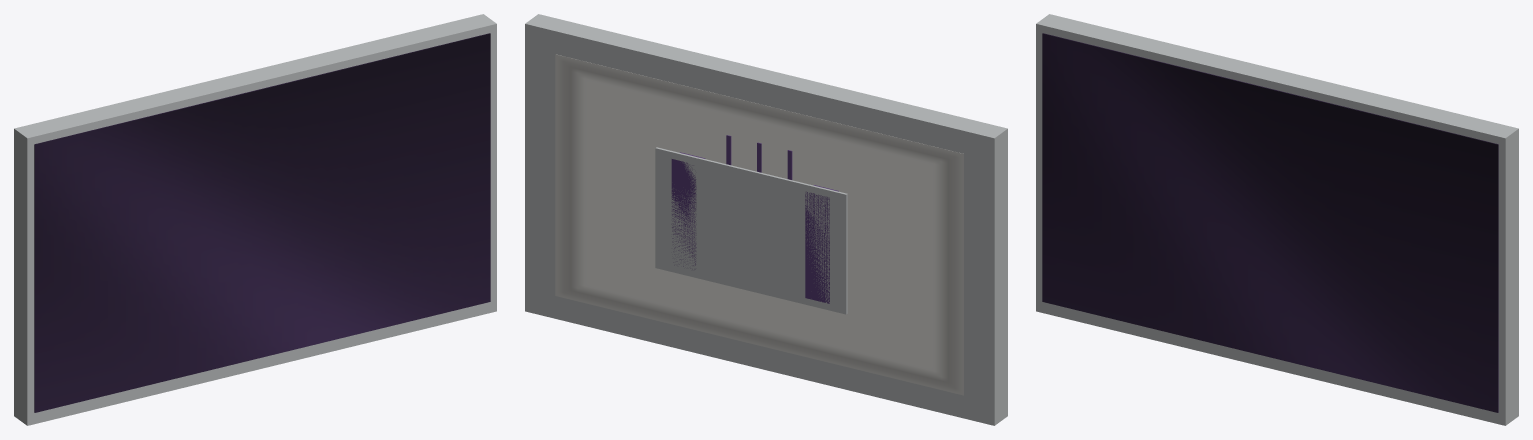
Rendered from s14-tv-wall-mounted-low.glb.
The picture shows the model from 3 angles, left to right: view 1: azimuth 30°, elevation 25°; view 2: azimuth 150°, elevation 25°; view 3: azimuth 330°, elevation 25°; orthographic projection.
Visible parts, largest first — view 1: Floating picture plane, Aluminium gallery reveal; view 2: Aluminium gallery reveal, Wall bracket; view 3: Floating picture plane, Aluminium gallery reveal.
Boxes of the visible parts, bbox=[...] form: Floating picture plane: bbox=[34, 33, 490, 412]; Aluminium gallery reveal: bbox=[14, 14, 496, 425]; Aluminium gallery reveal: bbox=[525, 14, 1007, 425]; Wall bracket: bbox=[655, 147, 847, 314]; Floating picture plane: bbox=[1042, 33, 1498, 412]; Aluminium gallery reveal: bbox=[1036, 14, 1518, 425].
Bounding box in the file's own units: 3.55 × 2.08 × 0.3.
Materials: 1 (1 with a texture image).
